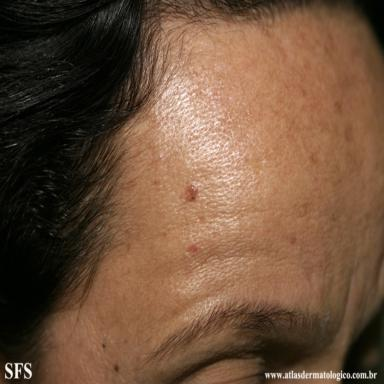basal-cell-carcinoma: (185, 184, 199, 202)
